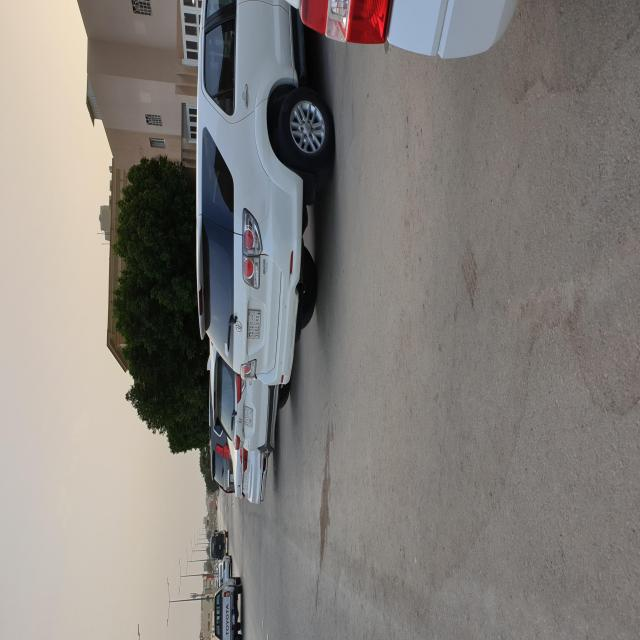license_plate: (247, 310, 261, 339), (244, 406, 254, 428), (232, 613, 235, 626)
